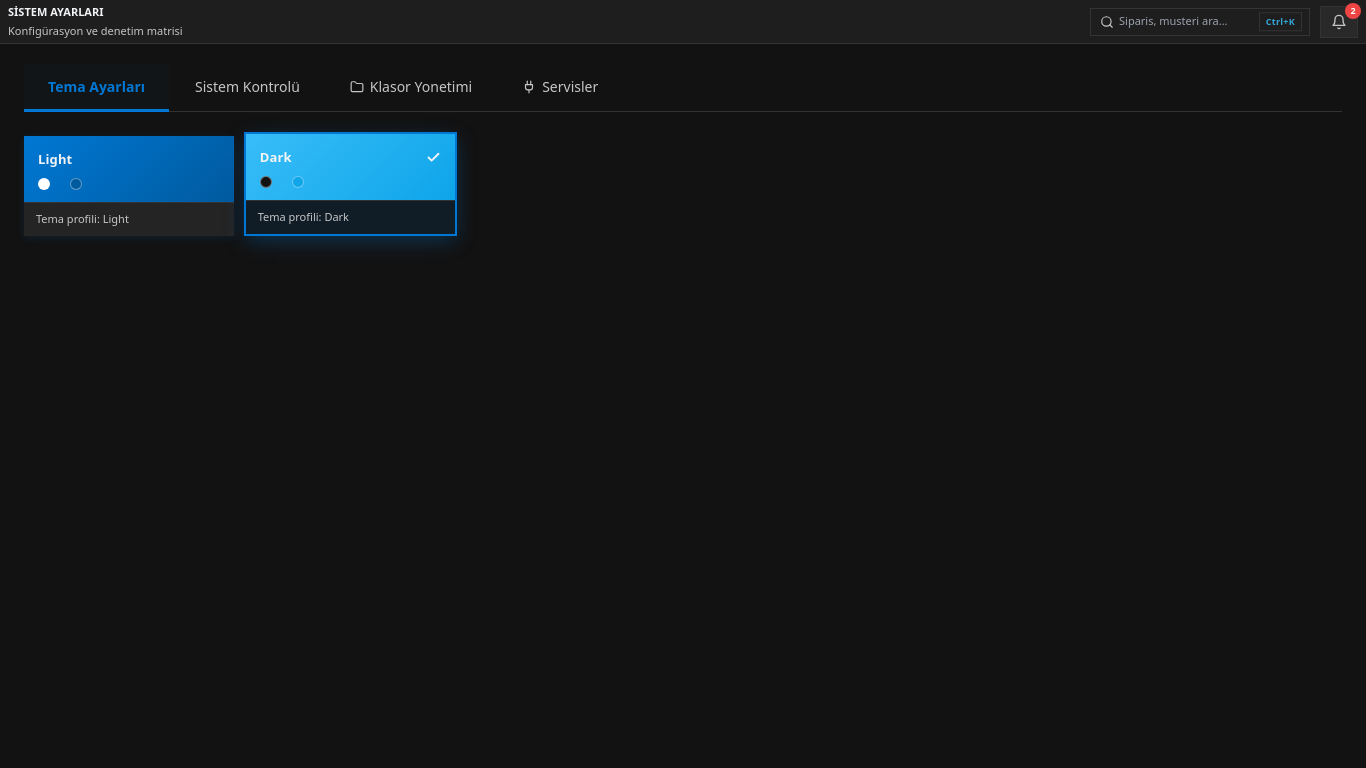
Test: ConfigPage › servisler sekmesinde arama ve durum filtresi birlikte calisir
Click the button "Servisler". click: [560, 88]
box: [498, 64, 622, 112]
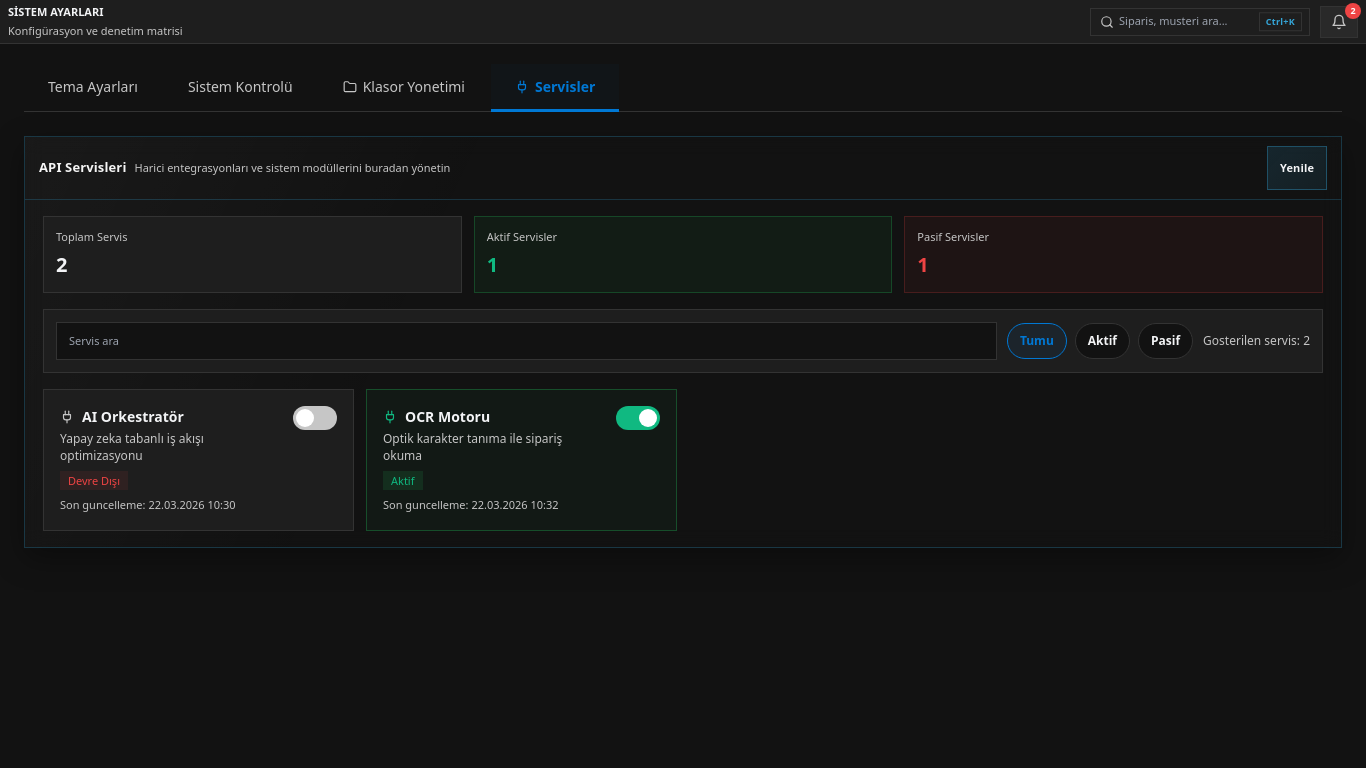
Type "OCR" into the field labelled "Servis ara". click: [526, 341]
box: [56, 322, 997, 360]
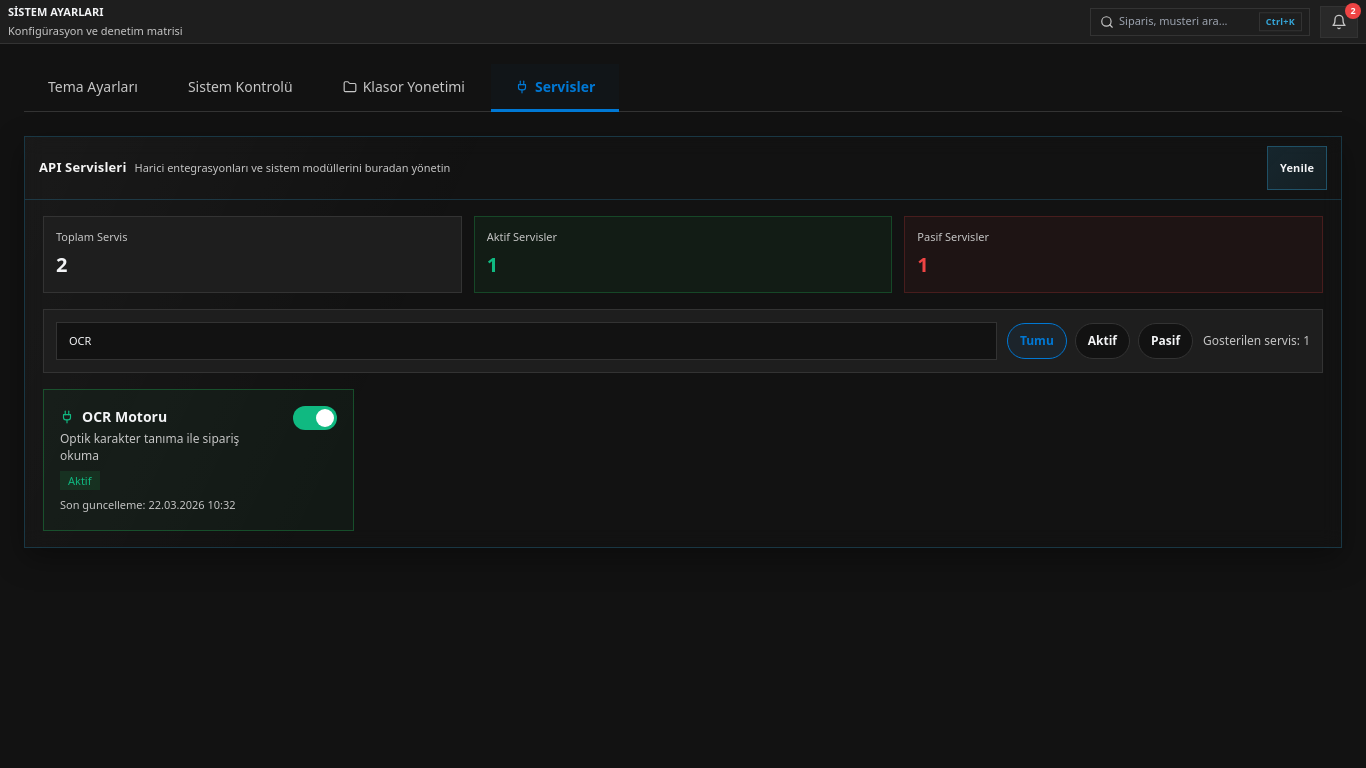
Check: the text "OCR Motoru" is shown, box [82, 406, 167, 427]
Check: the text "AI Orkestratör" is gone
Clear the field named "Servis ara". click: [526, 341]
box: [56, 322, 997, 360]
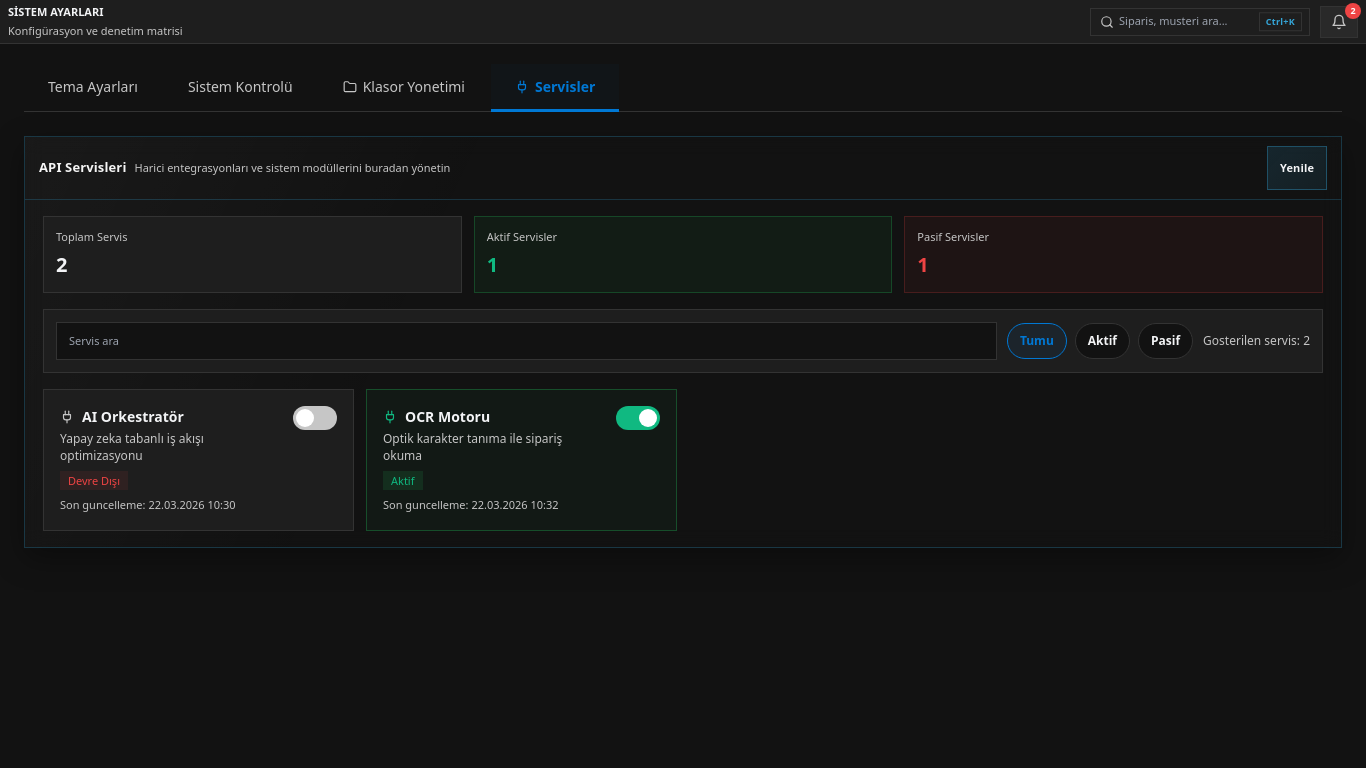
Click the button "Pasif". click: [1166, 341]
box: [1138, 323, 1193, 359]
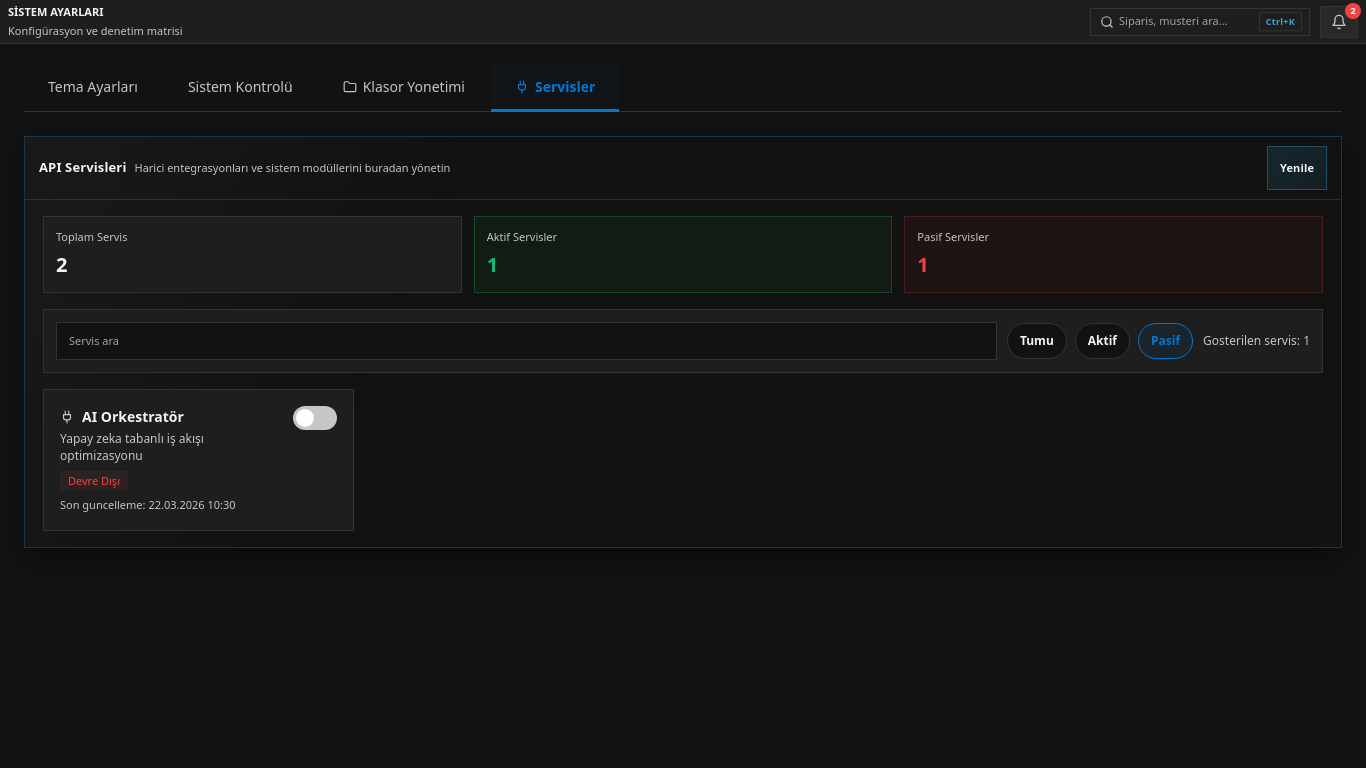
Check: the text "AI Orkestratör" is shown, box [82, 406, 184, 427]
Check: the text "OCR Motoru" is gone
